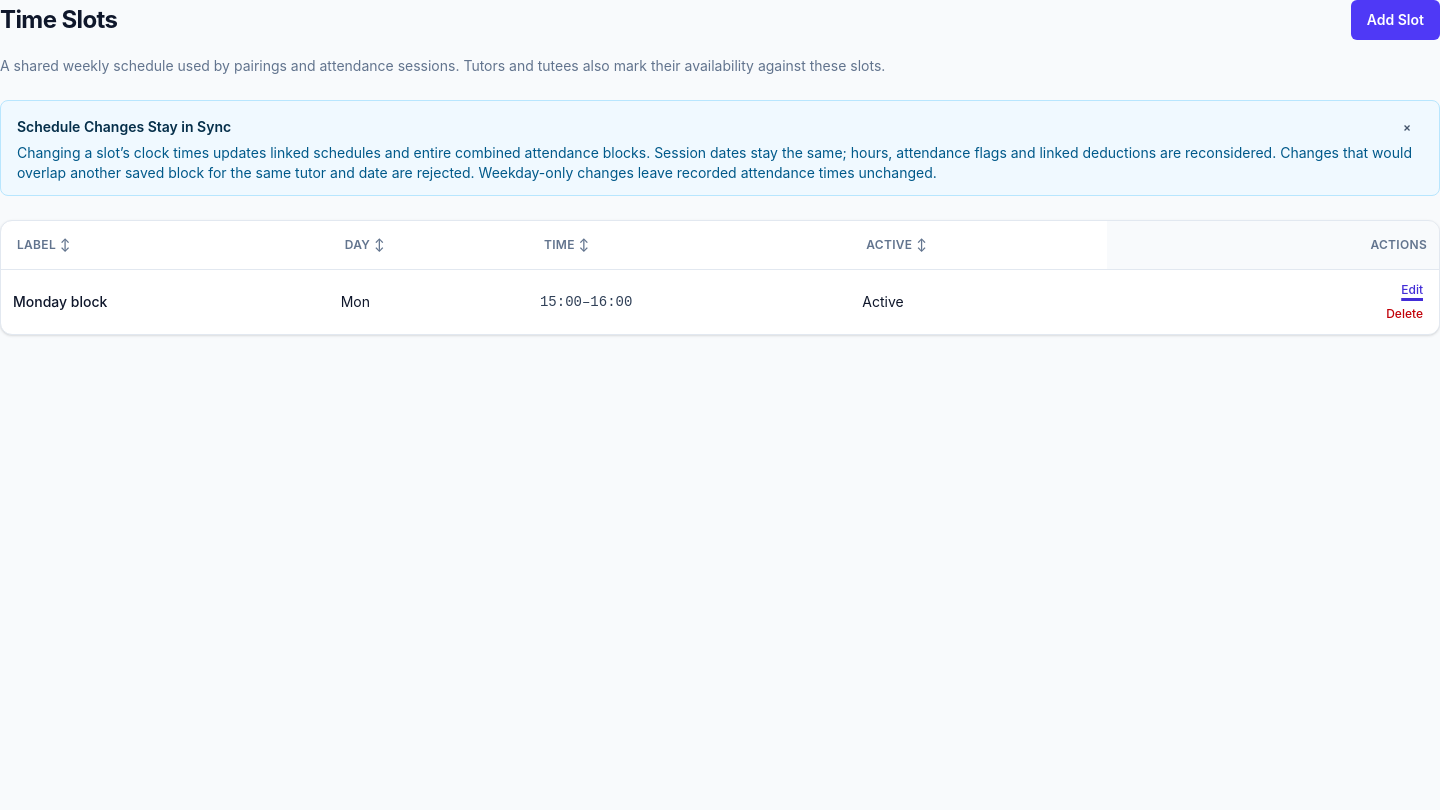
Test: rejects invalid time ranges and cancels the slot draft without a write
Click the button with aria-label "Edit: Monday block": click(1405, 290) [1383,278,1427,302]
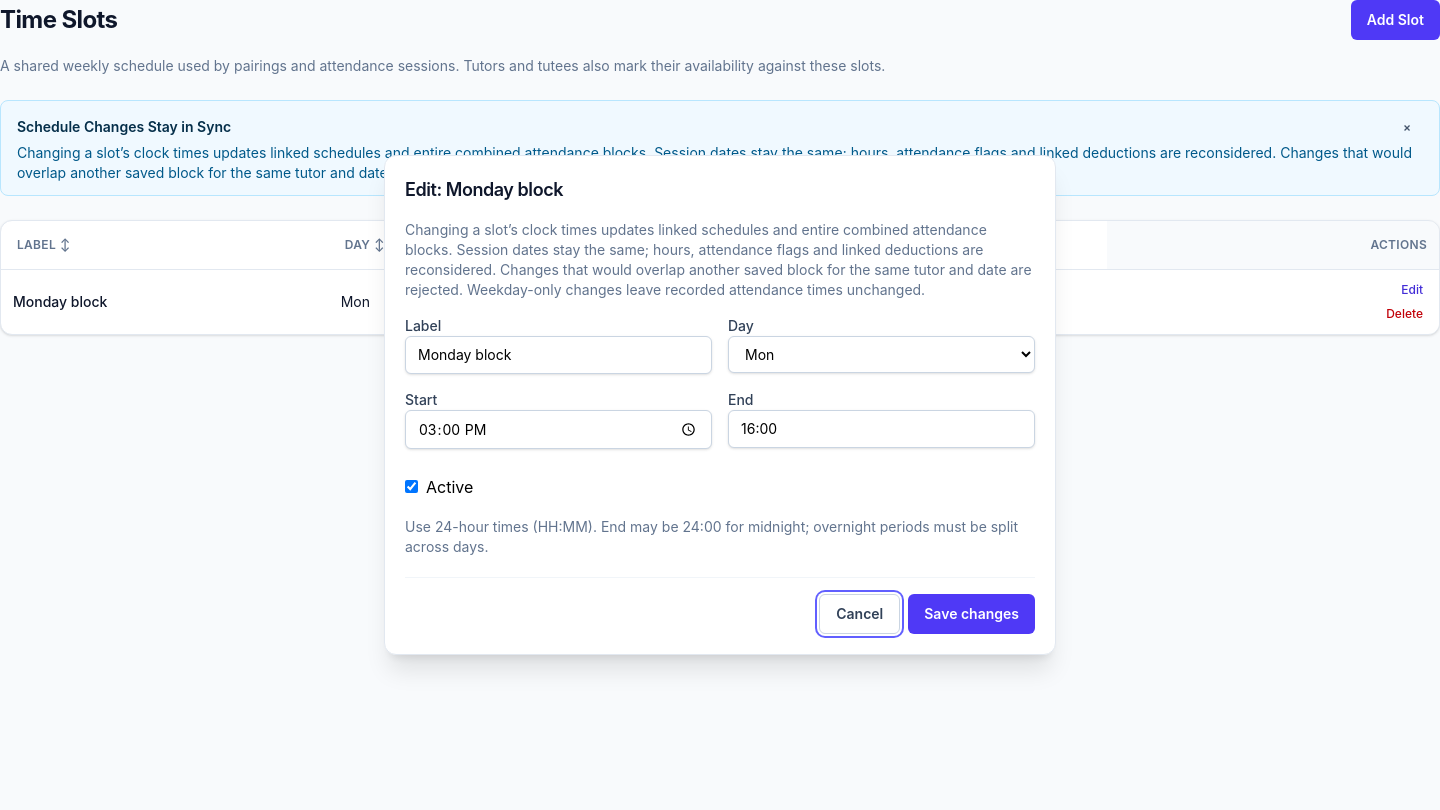
Replace the text in the field labelled "End" with "14:00": (882, 429) [728,410,1035,448]
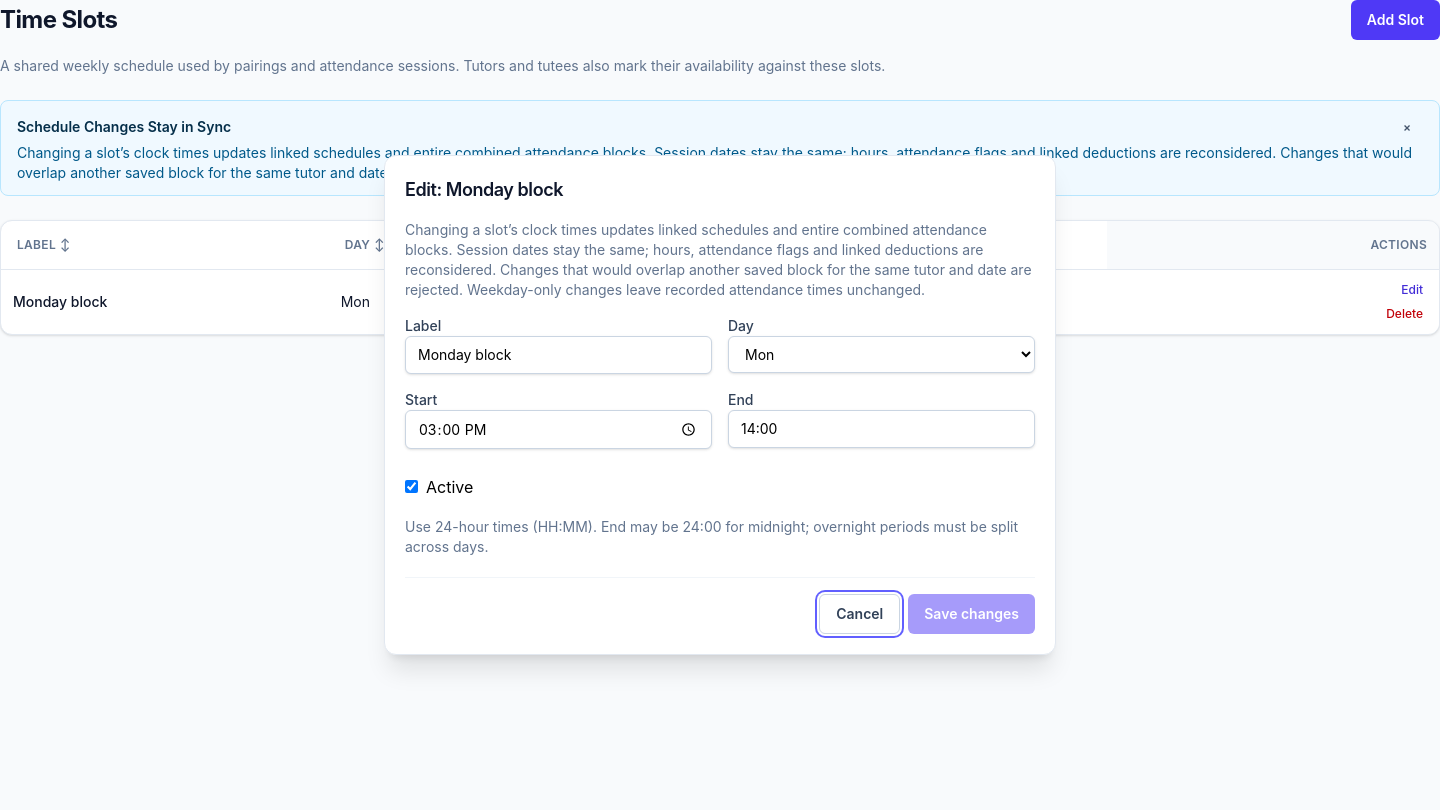
Expected: the button "Save changes" is disabled, [908,594,1035,634]
Click the button "Cancel": click(860, 614) [819,594,900,634]
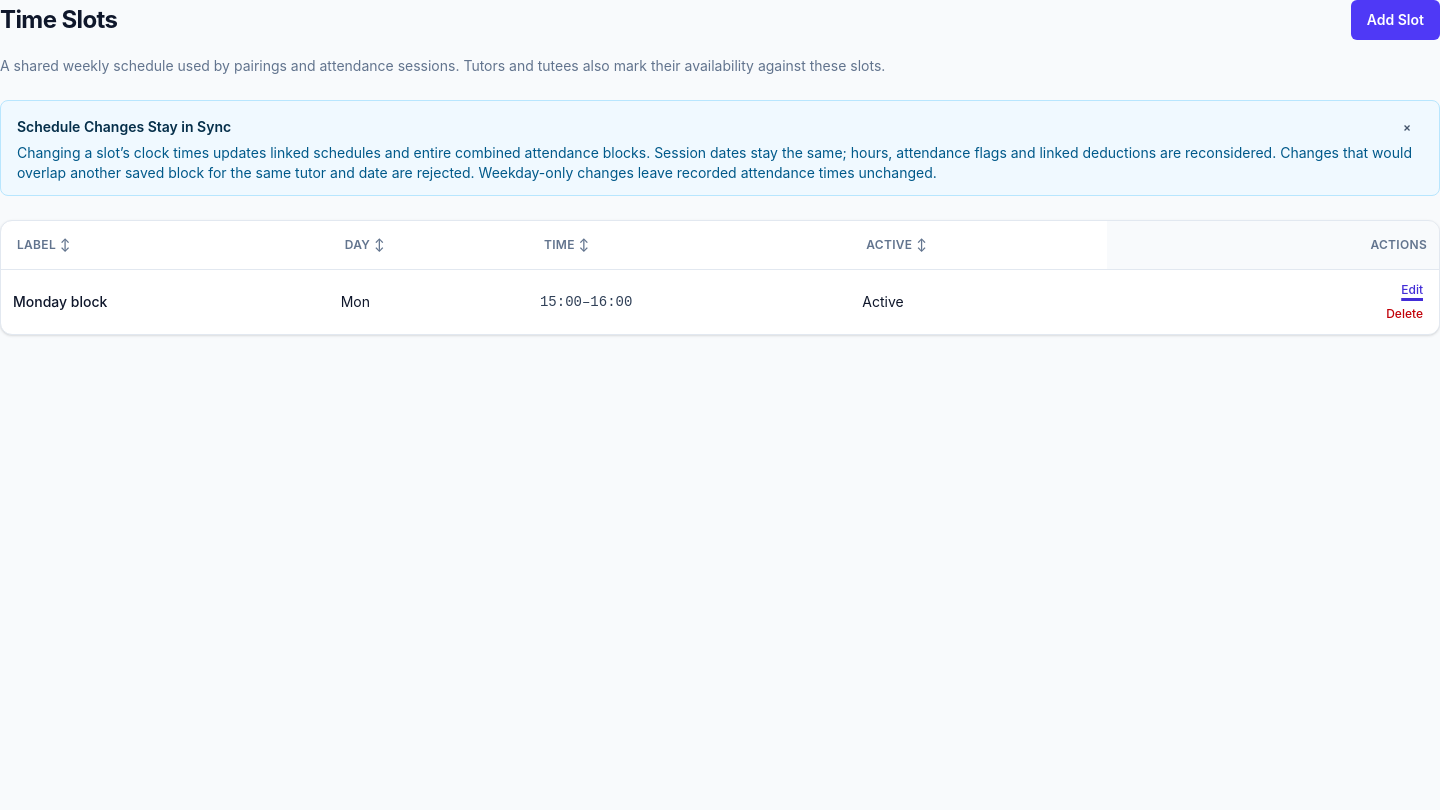
Expected: the dialog is gone
